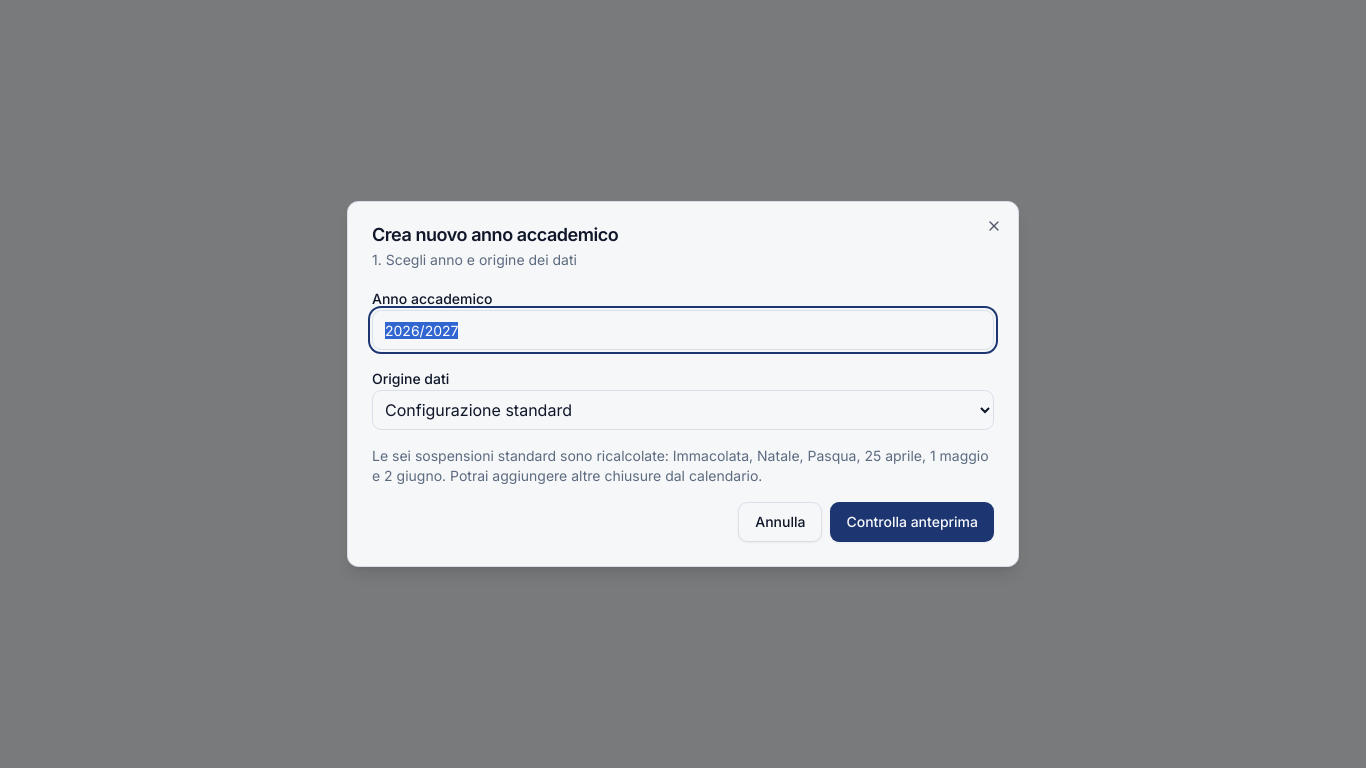
New academic year wizard › shows server errors without allowing a save
Step 1. Click the button "Controlla anteprima" → coordinates (912, 522), box [830,502,994,542]
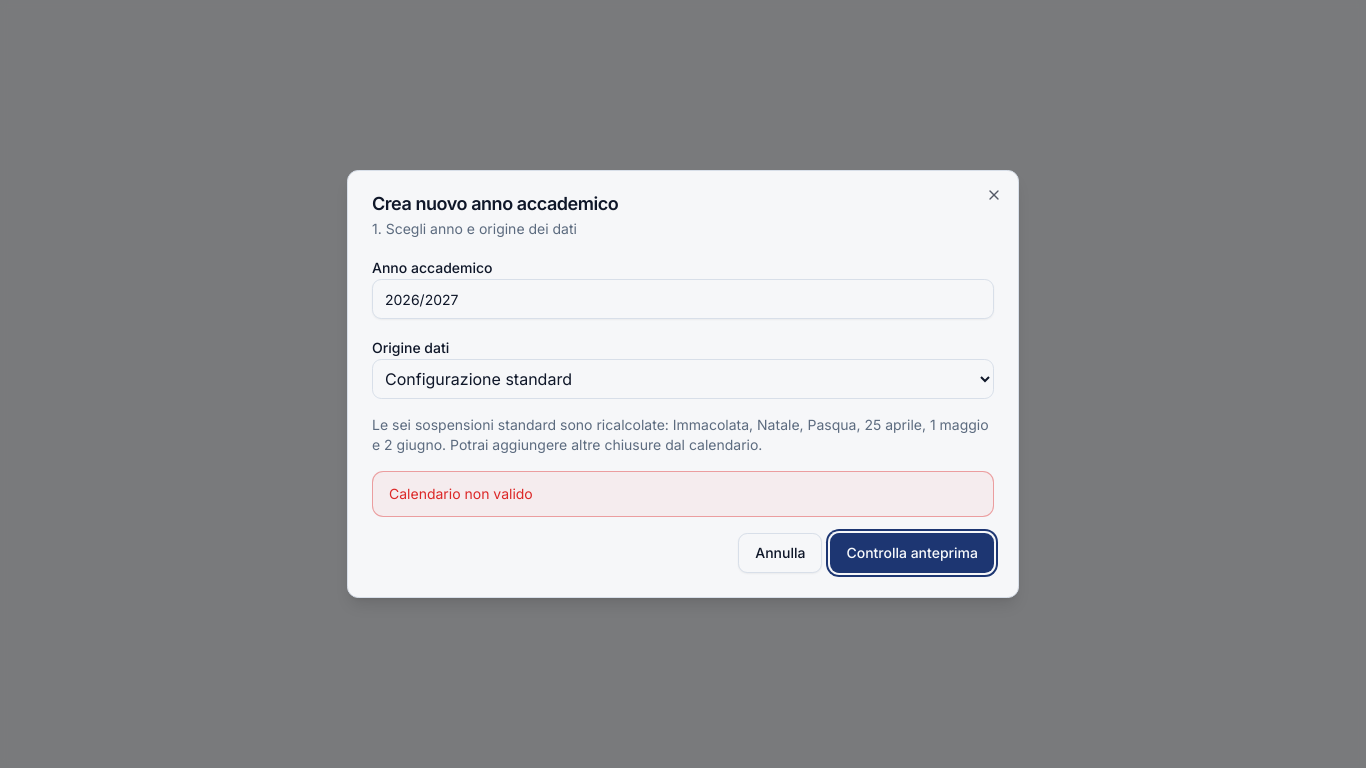
Expected: the text "Calendario non valido" is shown, [389,485,533,502]
